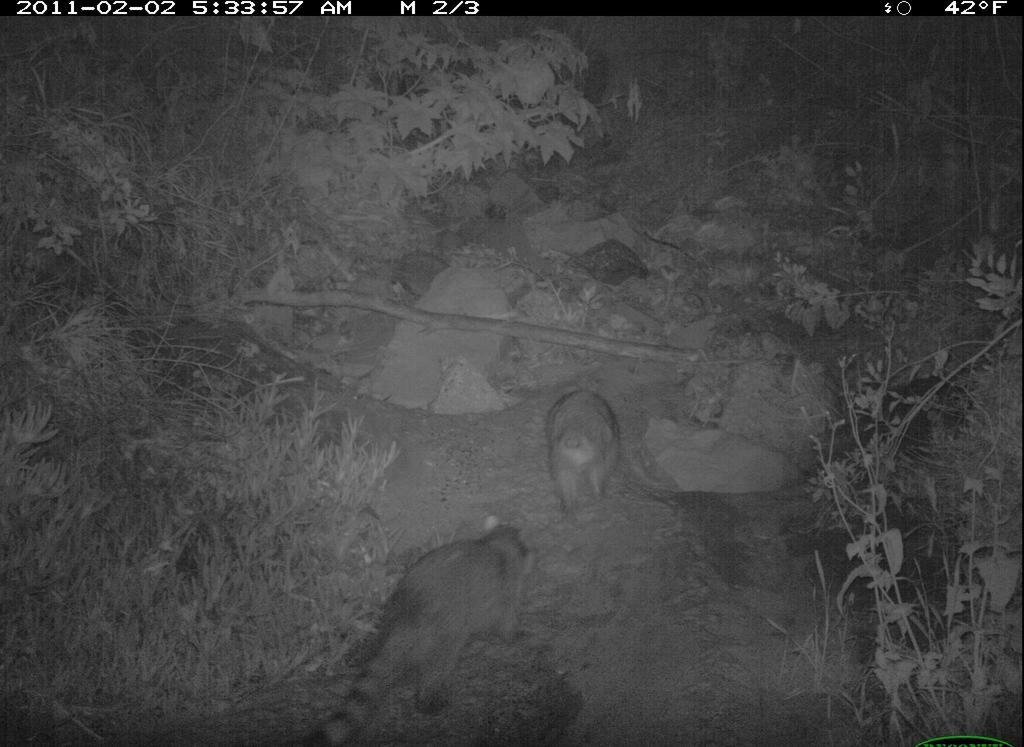raccoon: (309, 518, 539, 745), (530, 374, 655, 528)
